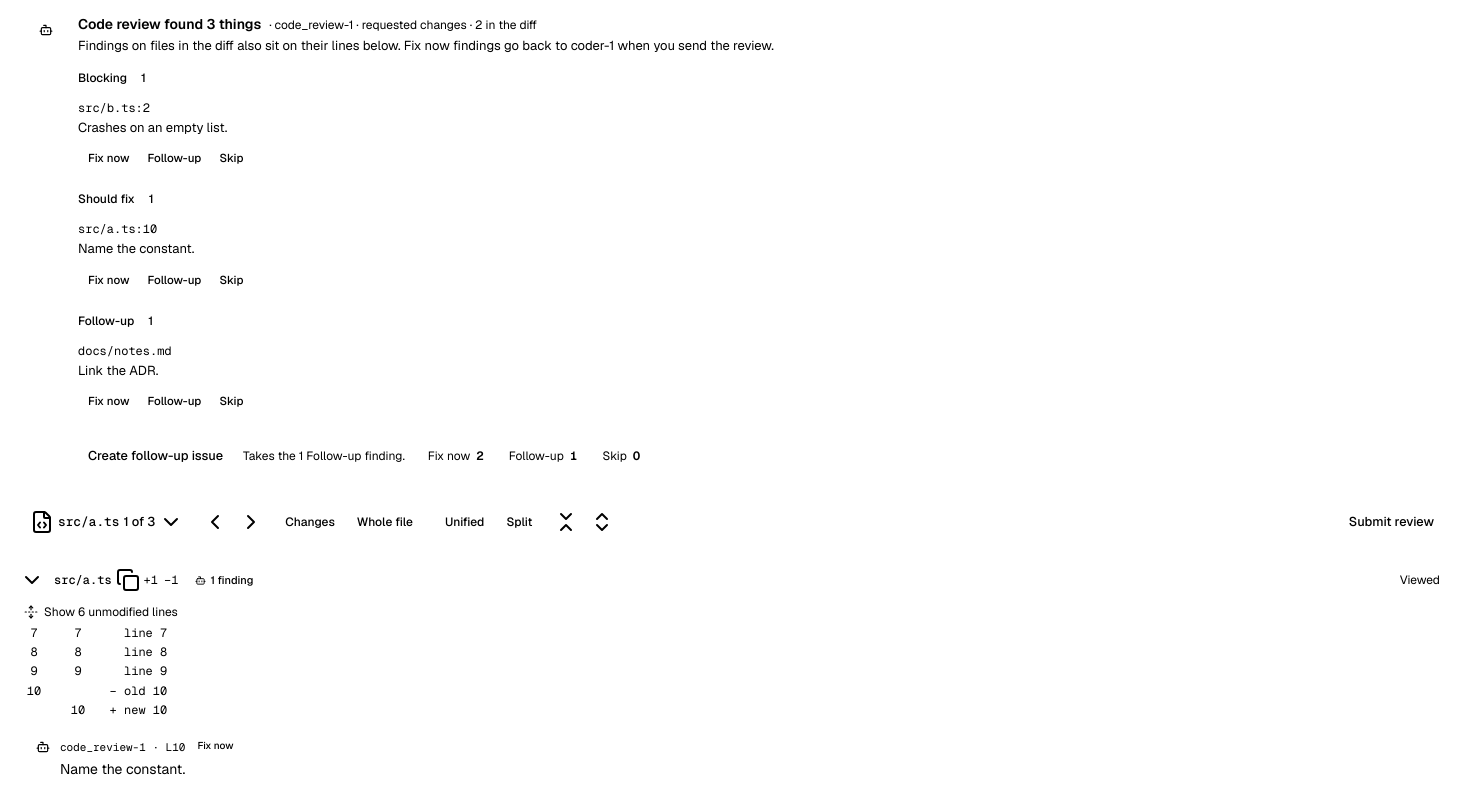
where_am_i lists the code reviewer's findings by severity and says the follow-up issue is the page's button
Click the button "Create follow-up issue" at [156, 456], box [78, 442, 233, 470]
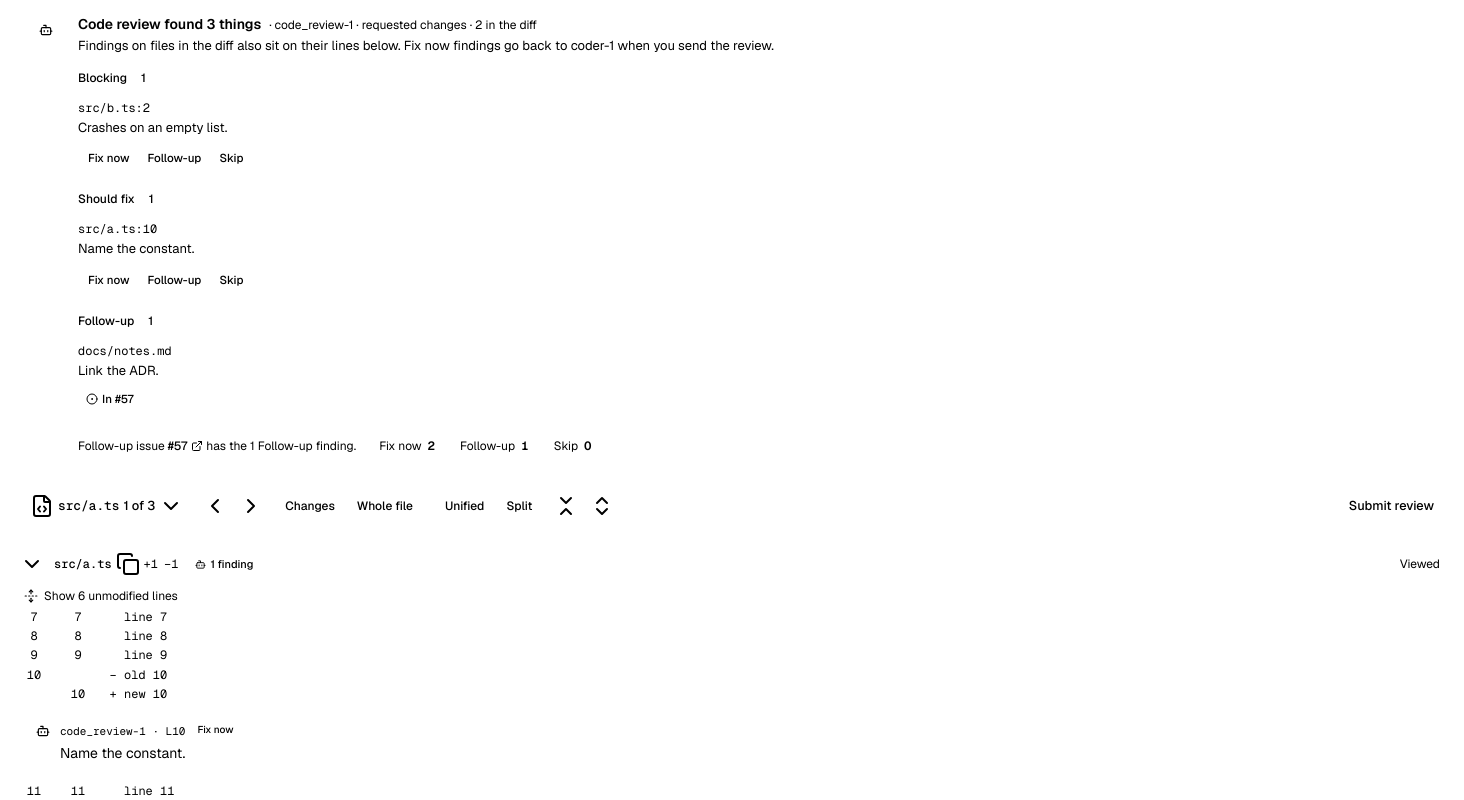
Result: the link "#57" is shown at [168, 438, 203, 454]
